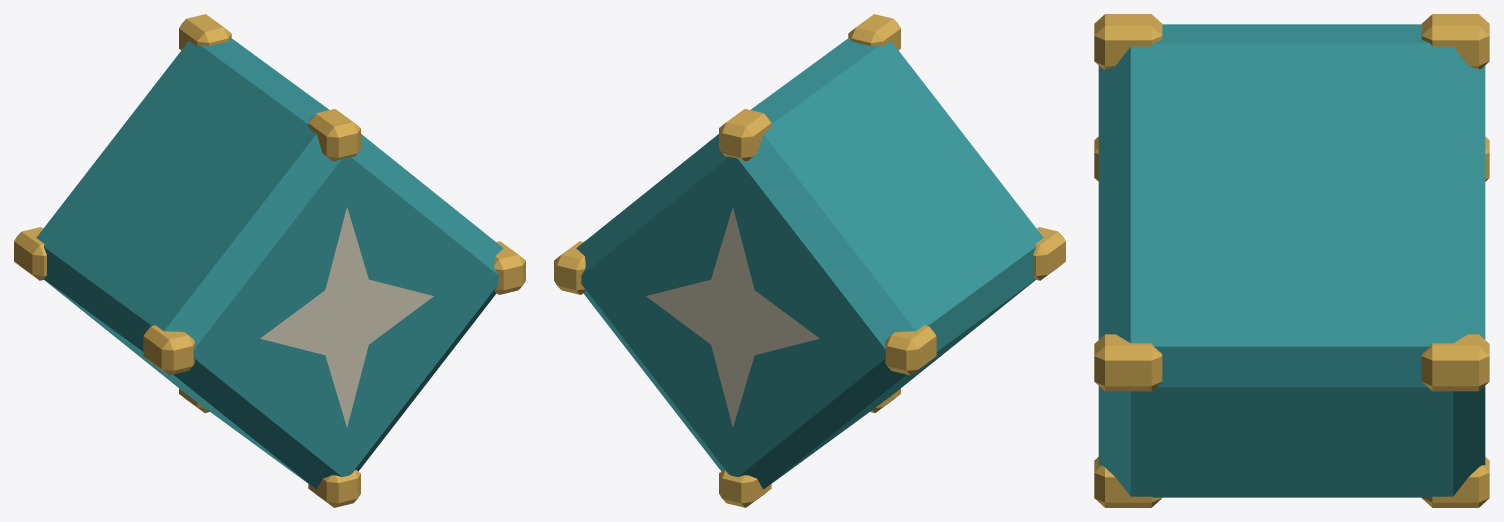
The model's file is prop_itembox.glb.
The picture shows the model from 3 angles, left to right: view 1: azimuth 30°, elevation 25°; view 2: azimuth 150°, elevation 25°; view 3: azimuth 270°, elevation 25°; orthographic projection. The views are drawn at different scales.
Parts seen in each view (by area): view 1: prop_itembox__Crystal; view 2: prop_itembox__Crystal; view 3: prop_itembox__Crystal.
Boxes of the visible parts, left/top/right/bottom form: prop_itembox__Crystal: left=14, top=14, right=525, bottom=507; prop_itembox__Crystal: left=554, top=14, right=1065, bottom=507; prop_itembox__Crystal: left=1094, top=14, right=1489, bottom=507.
Bounding box in the file's own units: 1.17 × 1.17 × 0.87.
